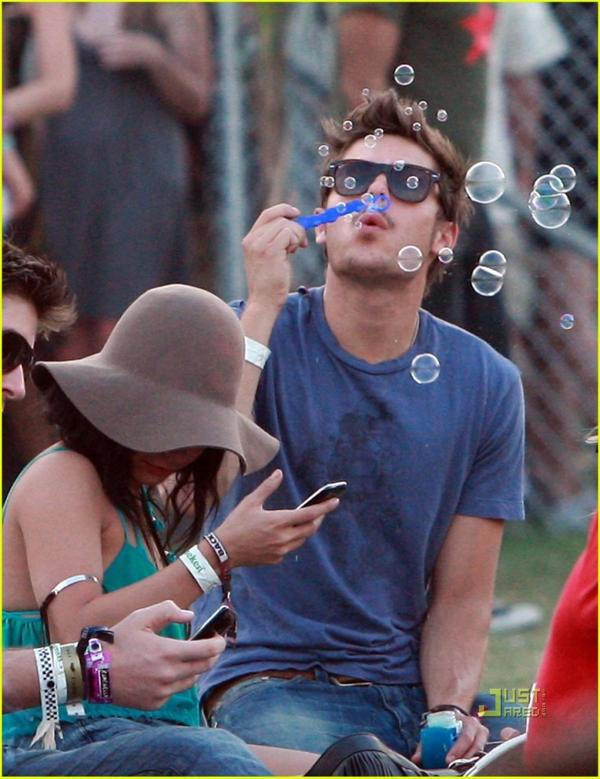person: (203, 90, 529, 779)
